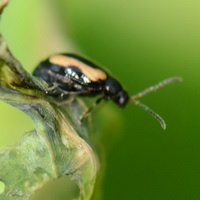insect: (33, 54, 181, 128)
